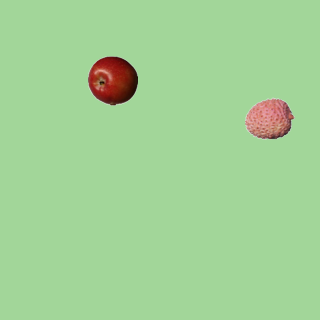Apple Braeburn: (87, 55, 137, 105)
Lychee: (244, 93, 294, 143)
